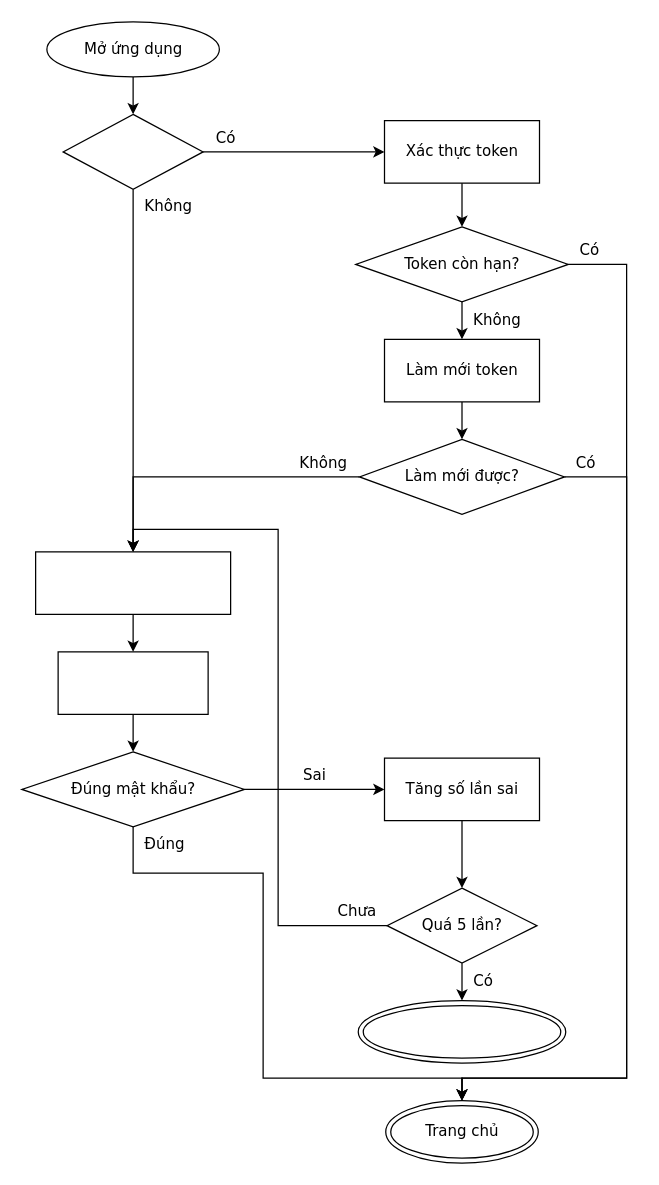
This 659x1185 diagram has some shape labels left out. The shapes that lost their labels are listed below. From the top down, each one's centre as x and y in pixels, then its label:
At point (132, 151): "Có token?".
At point (132, 582): "Màn hình đăng nhập".
At point (132, 682): "Gửi tài khoản".
At point (461, 1031): "Khóa tài khoản".
